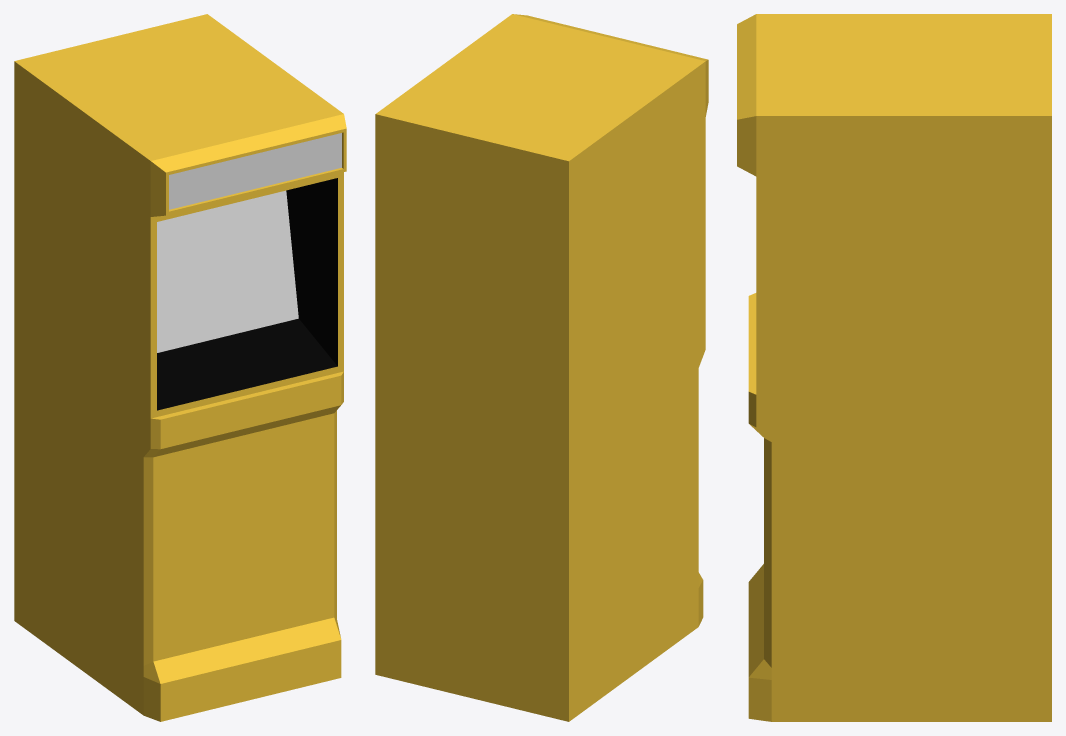
Rendered from Arcade.fbx.
3 views of the same model, side by side, from view 1: azimuth 30°, elevation 25°; view 2: azimuth 150°, elevation 25°; view 3: azimuth 270°, elevation 25° (orthographic). The views are drawn at different scales.
Parts seen in each view (by area): view 1: Arcade, Screen; view 2: Arcade; view 3: Arcade.
Part boxes in pixels (bbox=[...]): Arcade: bbox=[14, 14, 346, 721]; Screen: bbox=[157, 190, 298, 352]; Arcade: bbox=[375, 14, 708, 721]; Arcade: bbox=[737, 14, 1051, 721].
Bounding box in the file's own units: 62.59 × 81.63 × 173.
